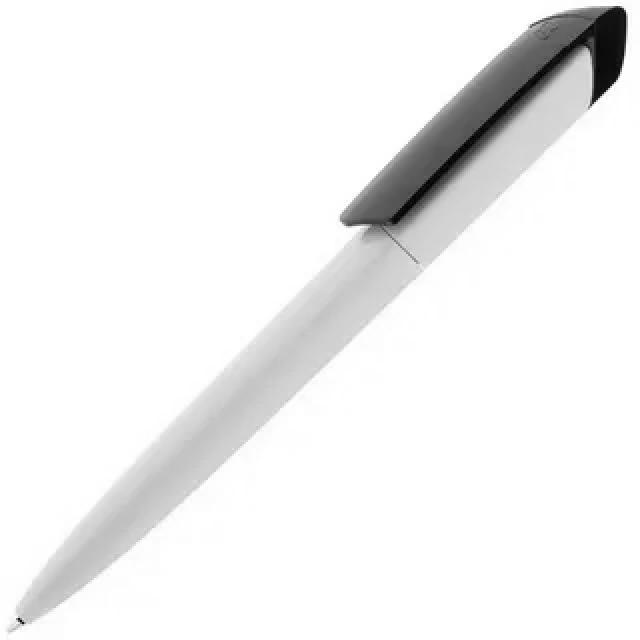pen: (0, 4, 626, 634)
